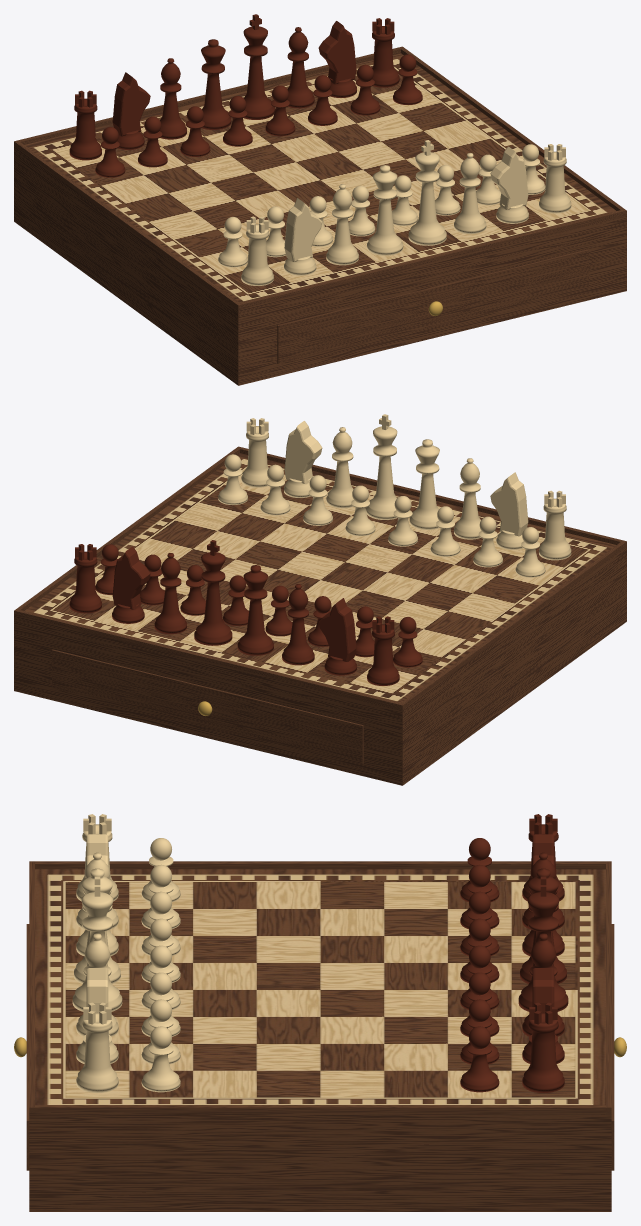
File: philidor-3d-noyer-tiroirs-32-v2.glb
3 views of the same model, one above another, from view 1: azimuth 30°, elevation 25°; view 2: azimuth 150°, elevation 25°; view 3: azimuth 270°, elevation 25° (orthographic). The views are drawn at different scales.
Visible parts, largest first — view 1: noyer-tiroirs-32; view 2: noyer-tiroirs-32; view 3: noyer-tiroirs-32.
Boxes of the visible parts, x1,y1,x2,y2 form: noyer-tiroirs-32: (14, 14, 626, 385); noyer-tiroirs-32: (14, 414, 626, 785); noyer-tiroirs-32: (14, 814, 626, 1211).
Size of what is drawn, in the model's own units: 0.32 by 0.136 by 0.3367.
6 materials, 3 textured.
